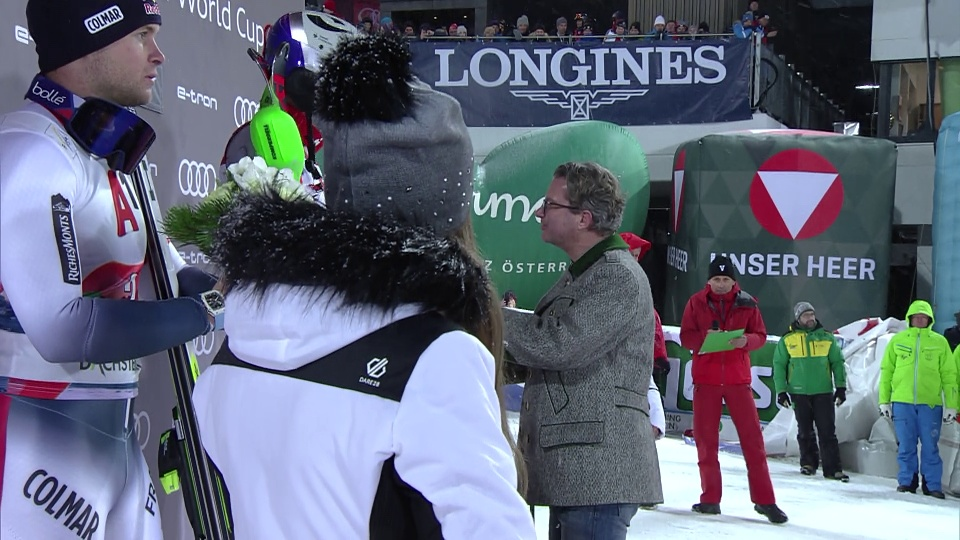a1: (113, 168, 147, 241)
audi: (178, 158, 216, 203), (233, 97, 263, 126)
etron: (175, 85, 220, 113)
longines: (475, 37, 734, 112), (53, 201, 86, 289)
unserheer: (706, 145, 878, 288), (667, 144, 700, 280)
